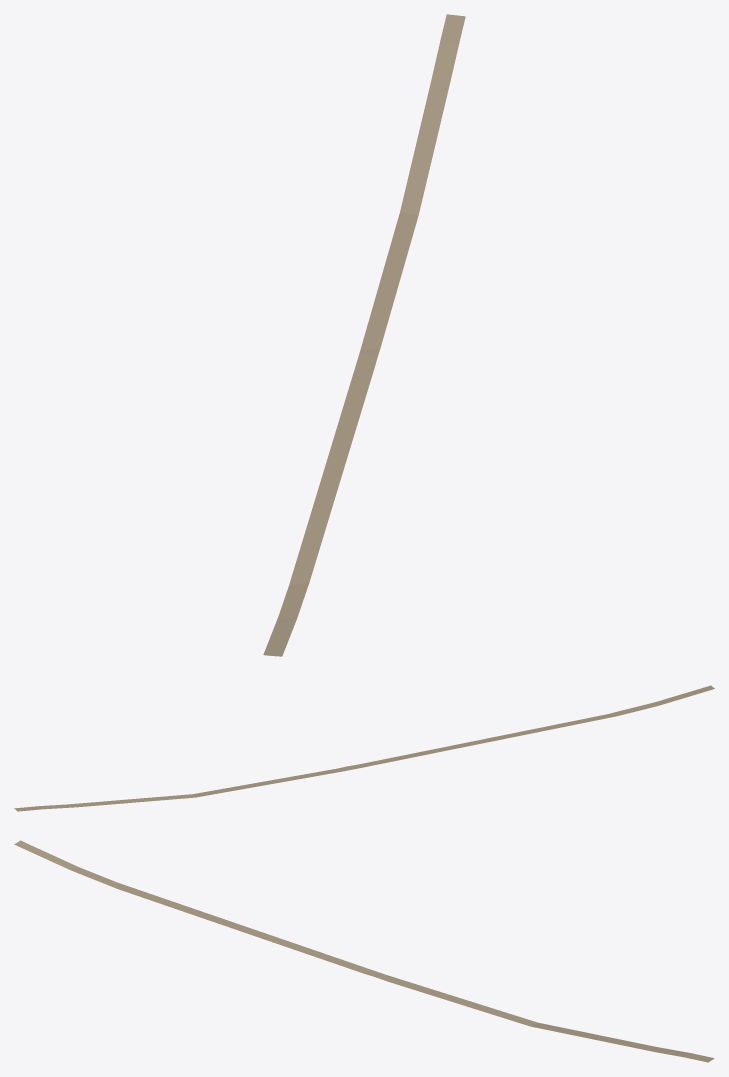
The model's file is farm_-4_8_track.glb.
3 renders of one model, top to bottom at view 1: azimuth 30°, elevation 25°; view 2: azimuth 150°, elevation 25°; view 3: azimuth 270°, elevation 25°, orthographic. The views are drawn at different scales.
Visible parts, largest first — view 1: geometry_0; view 2: geometry_0; view 3: geometry_0.
Part boxes in pixels (left/top/right/bottom): geometry_0: left=263, top=14, right=465, bottom=656; geometry_0: left=14, top=685, right=714, bottom=811; geometry_0: left=14, top=840, right=714, bottom=1062.
Size of the model in its own units: 158 by 7.1 by 209.
